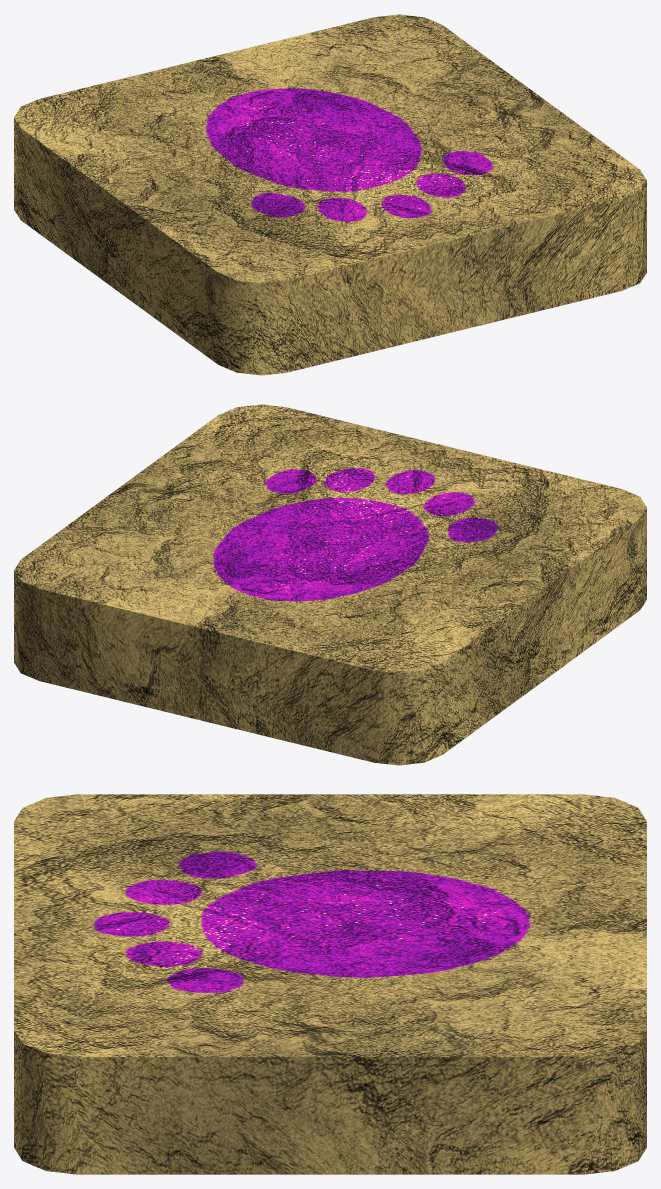
The model's file is Ball_tile.fbx.
3 renders of one model, top to bottom at view 1: azimuth 30°, elevation 25°; view 2: azimuth 150°, elevation 25°; view 3: azimuth 270°, elevation 25°, orthographic. The views are drawn at different scales.
Visible parts, largest first — view 1: pCube2; view 2: pCube2; view 3: pCube2.
Part boxes in pixels (box(x1,y1,x2,y2)): pCube2: box(14, 14, 646, 375); pCube2: box(14, 404, 646, 765); pCube2: box(14, 794, 646, 1174).
Bounding box in the file's own units: 2 × 0.4186 × 2.04.
Materials: 1 (1 with a texture image).
